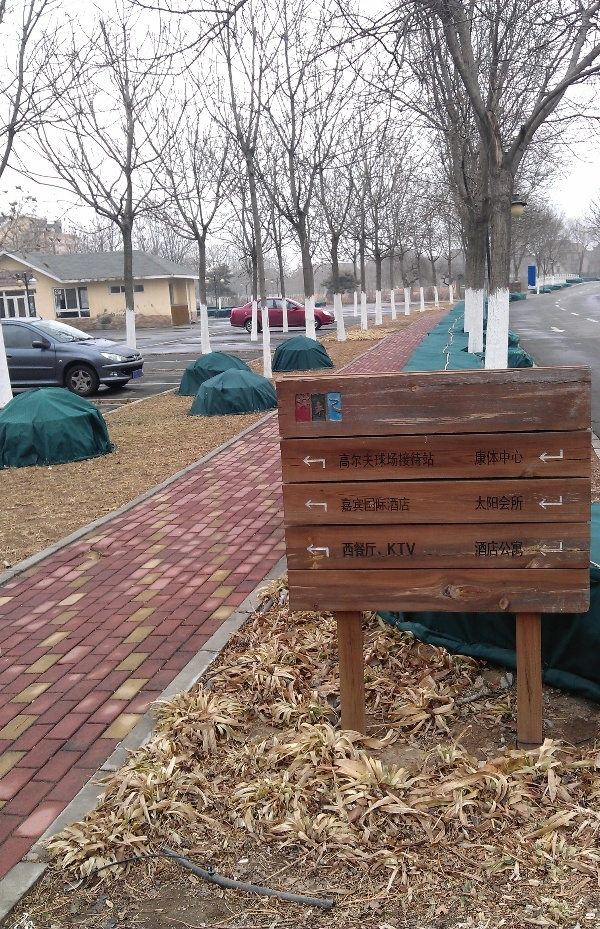text: (353, 451, 368, 469), (369, 451, 384, 469), (385, 451, 400, 469), (401, 451, 416, 469), (417, 451, 432, 469), (481, 448, 496, 466), (497, 448, 512, 466), (481, 495, 496, 513), (497, 495, 512, 513), (481, 541, 496, 559), (497, 541, 512, 559), (353, 541, 368, 558), (369, 541, 384, 558), (385, 541, 400, 558), (401, 541, 416, 558), (338, 451, 352, 469), (353, 497, 368, 513), (369, 497, 384, 513), (385, 497, 400, 513), (513, 448, 526, 466), (513, 495, 526, 513), (338, 497, 352, 513), (513, 541, 524, 559), (341, 541, 352, 558), (401, 497, 411, 513), (473, 448, 480, 466), (474, 541, 480, 559), (475, 495, 480, 513), (433, 451, 436, 469), (417, 541, 418, 558)
